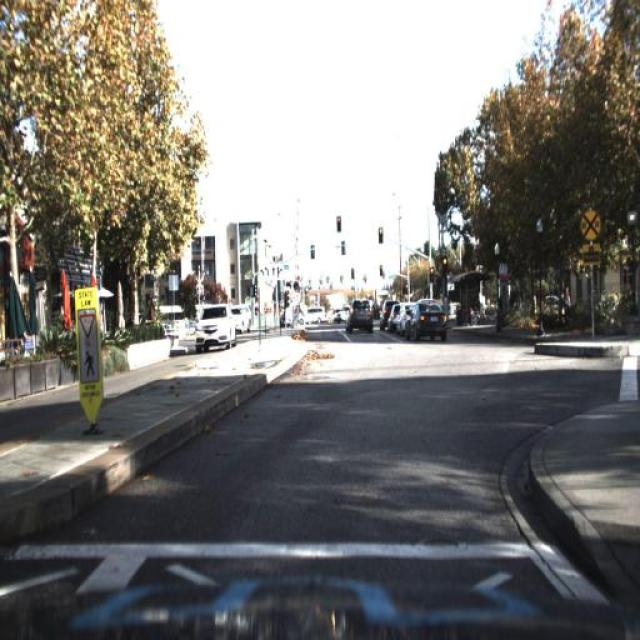car: (191, 301, 235, 350), (411, 293, 448, 339), (343, 295, 375, 335), (231, 300, 258, 338), (296, 300, 328, 326), (234, 296, 253, 339)
trafficLight: (560, 274, 574, 330), (560, 279, 574, 329)
trafficLight-RedLeft: (375, 221, 386, 248), (420, 261, 430, 288), (434, 251, 446, 273), (332, 210, 343, 232), (402, 280, 410, 298)
